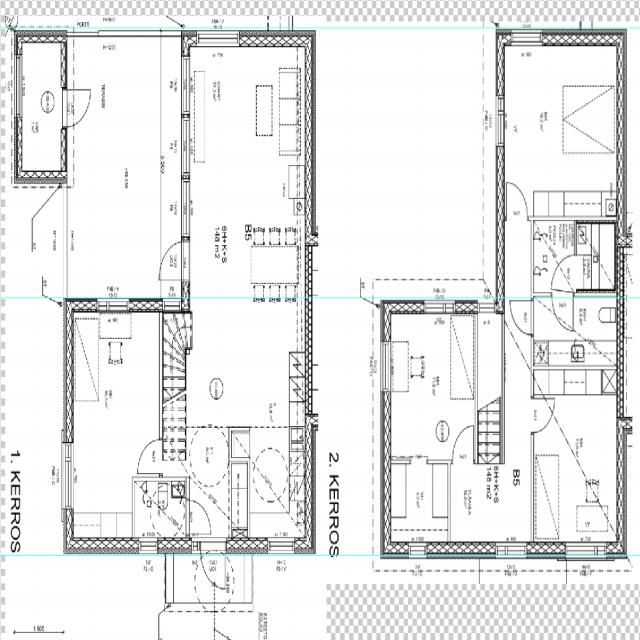door: (200, 537, 226, 593), (156, 240, 190, 280), (60, 88, 93, 128), (186, 499, 211, 534), (531, 398, 556, 433), (506, 183, 528, 222), (509, 301, 534, 335), (552, 255, 576, 289), (138, 440, 162, 473), (452, 427, 473, 464), (553, 292, 572, 327)
